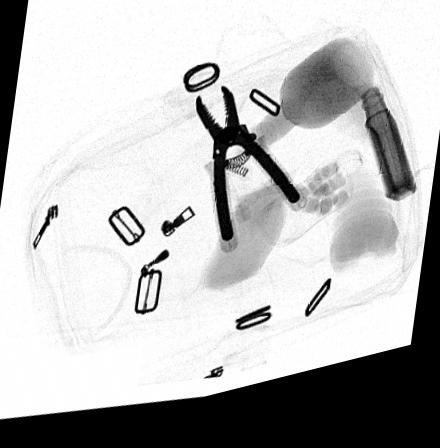Pliers: (194, 96, 302, 252)
